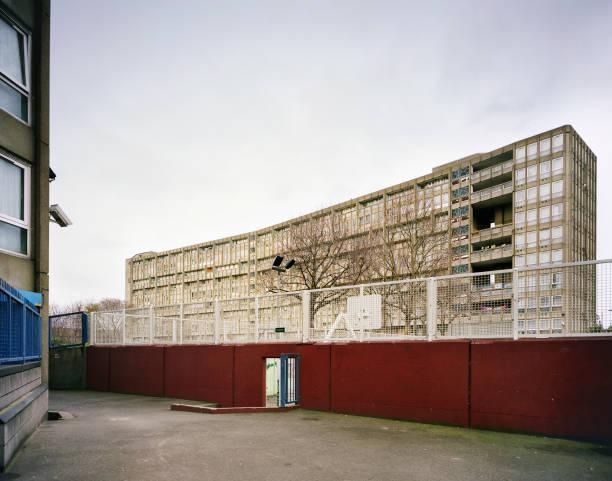camera: (35, 196, 83, 235)
